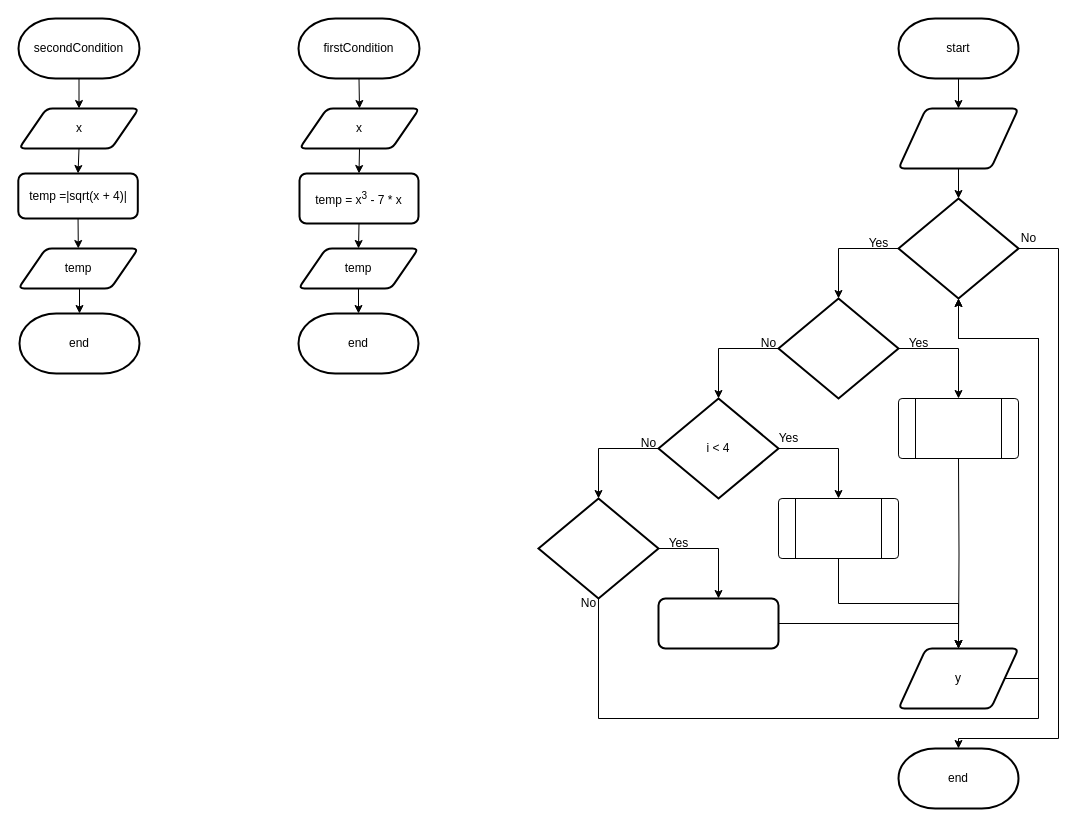
Image size: 1084x826. Some labels were removed from this diagram. The centre of each missing label's shape, as x and y in pixels:
firstCondition(i): [958,428]
i = x1 ; i <= x2; i += h: [958,248]
i == 0: [598,548]
i > 4: [838,348]
secondCondition(i): [838,528]
x1, x2, h: [958,138]
y = 3: [718,623]
